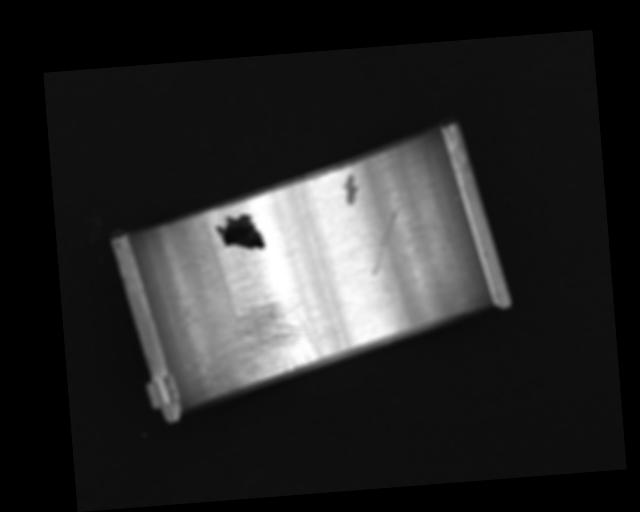blot: (213, 211, 266, 253)
bruise: (341, 172, 360, 206)
nick: (303, 181, 334, 299), (366, 204, 405, 278)
scratch: (202, 286, 325, 396)
